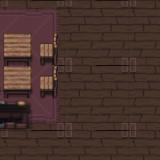Hide: (0, 100, 33, 130)
Obstacle: (0, 29, 37, 67), (0, 64, 36, 100), (34, 66, 65, 101), (37, 29, 64, 66)
